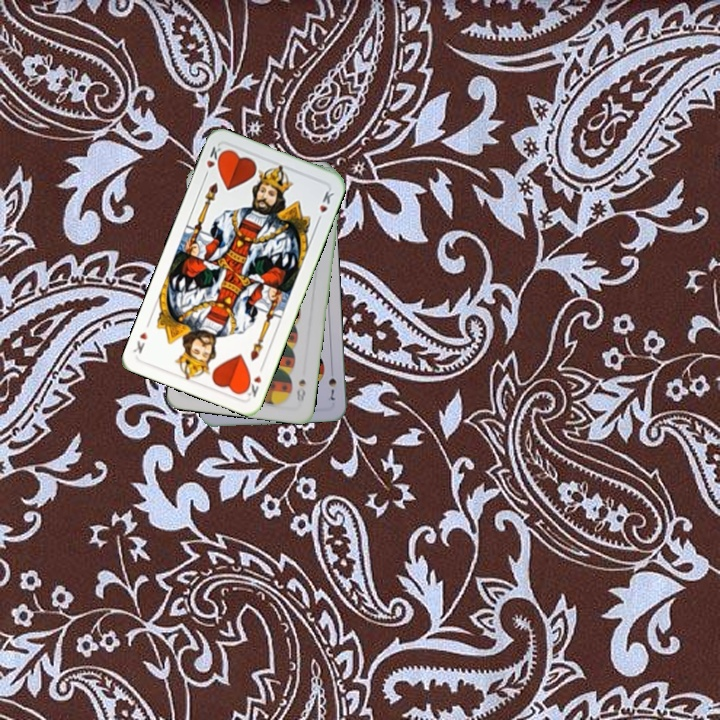HK: (240, 361, 266, 400), (200, 142, 226, 181)
S7: (324, 364, 339, 404)
S8: (292, 375, 308, 404)
